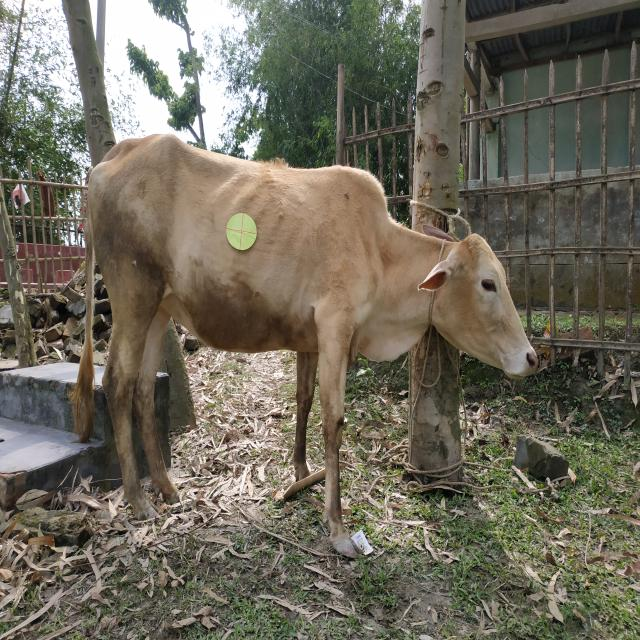badan_sapi: (94, 152, 370, 353)
sapi: (59, 112, 551, 572)
